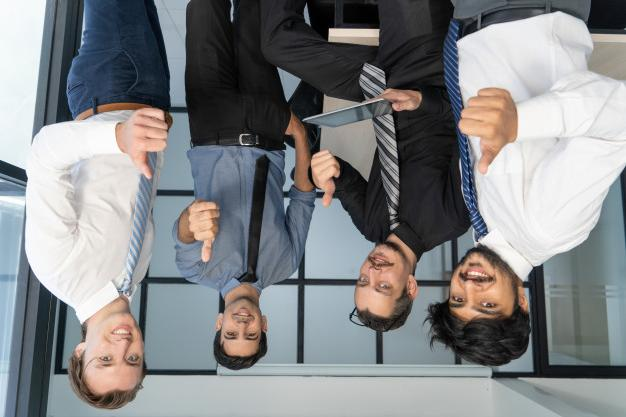thumbsdown: (458, 88, 510, 175), (130, 107, 168, 180), (188, 202, 220, 264), (310, 149, 340, 208)
